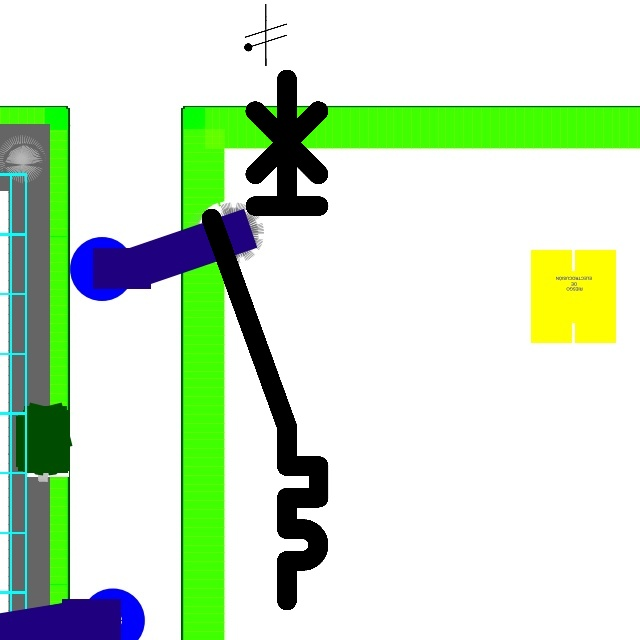interruptor_termomagnetico: (198, 66, 332, 614)
